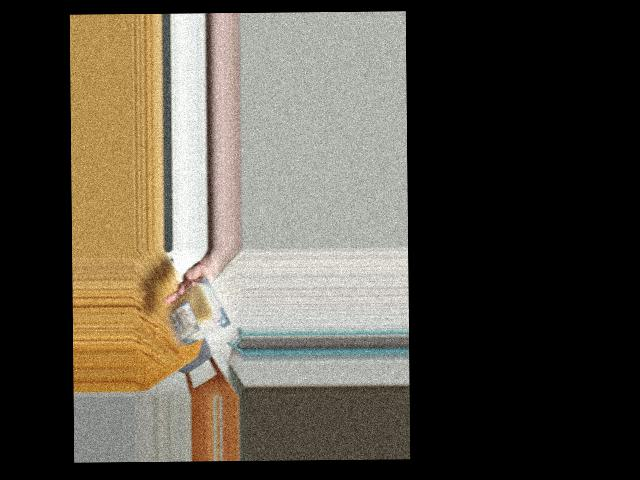cheese: (168, 283, 219, 343)
